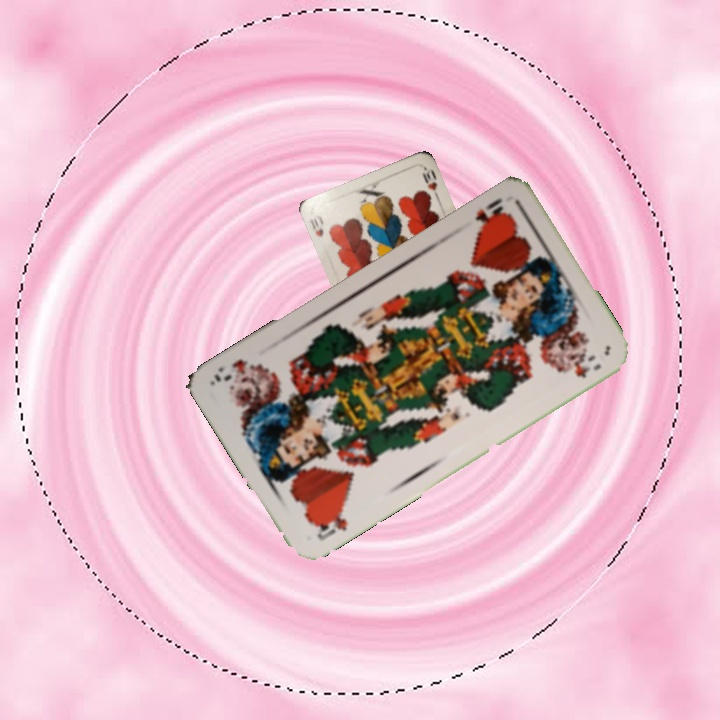H10: (306, 211, 326, 239)
HO: (311, 504, 350, 543), (471, 193, 508, 232)
